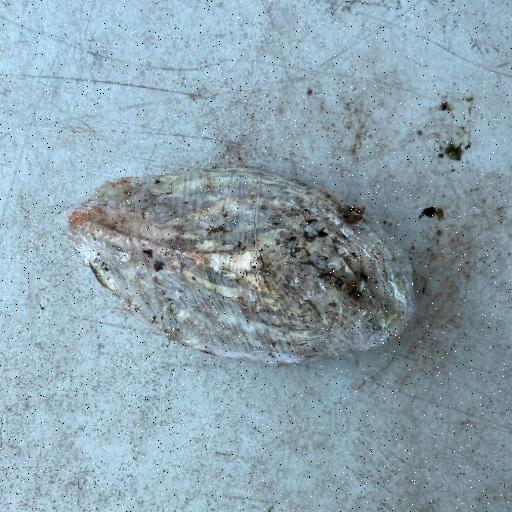Waste: (62, 164, 418, 366)
